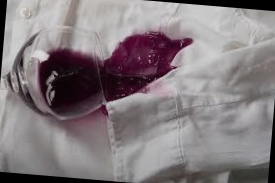wine: (56, 32, 183, 110), (112, 25, 191, 83)
